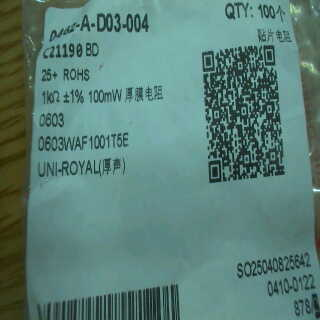1kR: (39, 86, 63, 107)
